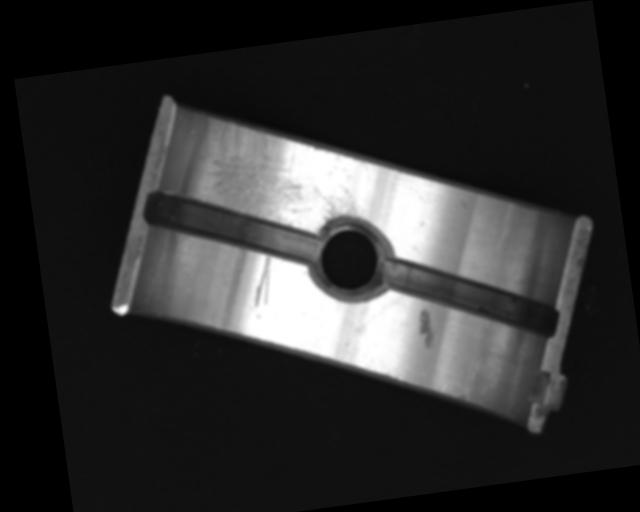bruise: (414, 307, 440, 351)
gap: (374, 236, 561, 358), (141, 171, 319, 282)
hole: (306, 216, 395, 302)
nick: (247, 253, 277, 308)
scratch: (196, 93, 372, 244)
